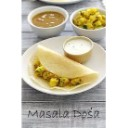dosa: (31, 42, 99, 87)
